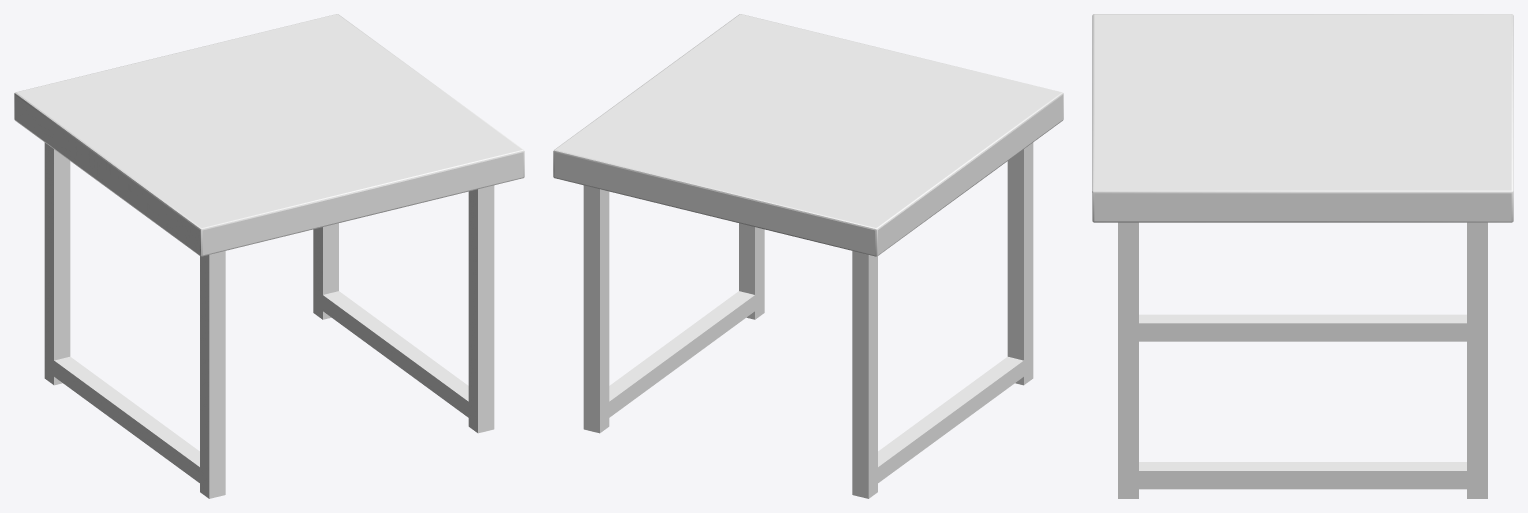
The model's file is AccentSideTable.fbx.
3 renders of one model, left to right at view 1: azimuth 30°, elevation 25°; view 2: azimuth 150°, elevation 25°; view 3: azimuth 270°, elevation 25°, orthographic. The views are drawn at different scales.
Visible parts, largest first — view 1: AccentSideTable; view 2: AccentSideTable; view 3: AccentSideTable.
Boxes of the visible parts, x1=… form: AccentSideTable: x1=14, y1=14, x2=524, y2=498; AccentSideTable: x1=553, y1=14, x2=1063, y2=498; AccentSideTable: x1=1092, y1=14, x2=1513, y2=498.
Bounding box in the file's own units: 60 × 50 × 60.
1 material, 1 textured.
